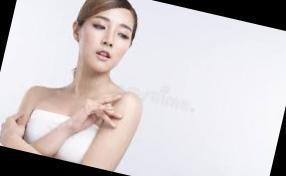Sober: (84, 6, 128, 69)
